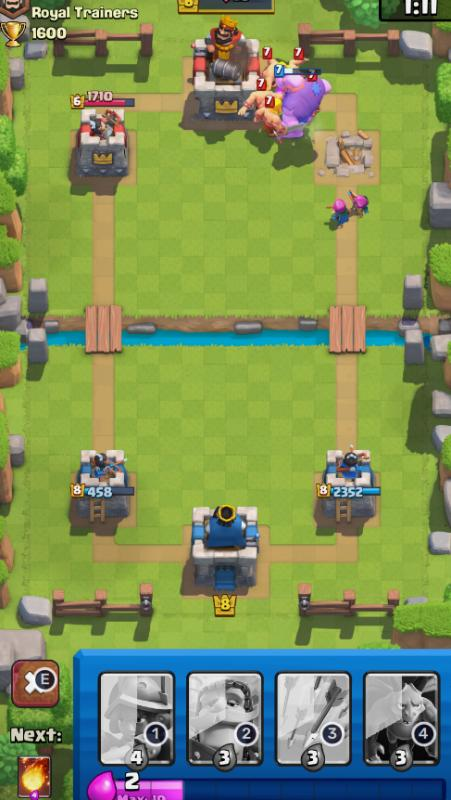archere: (346, 180, 375, 227), (326, 189, 350, 230)
geant: (276, 66, 342, 157)
